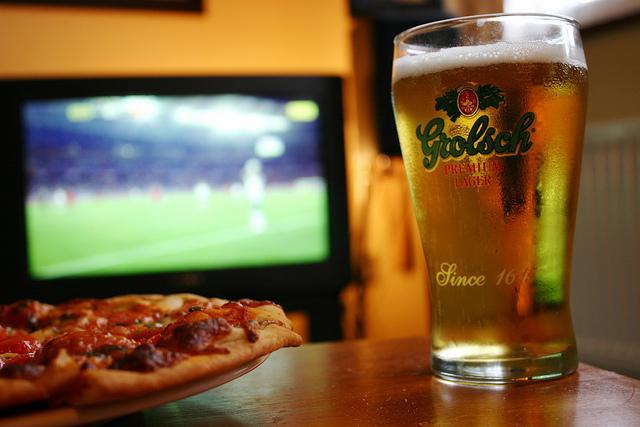tv: (0, 62, 351, 309)
